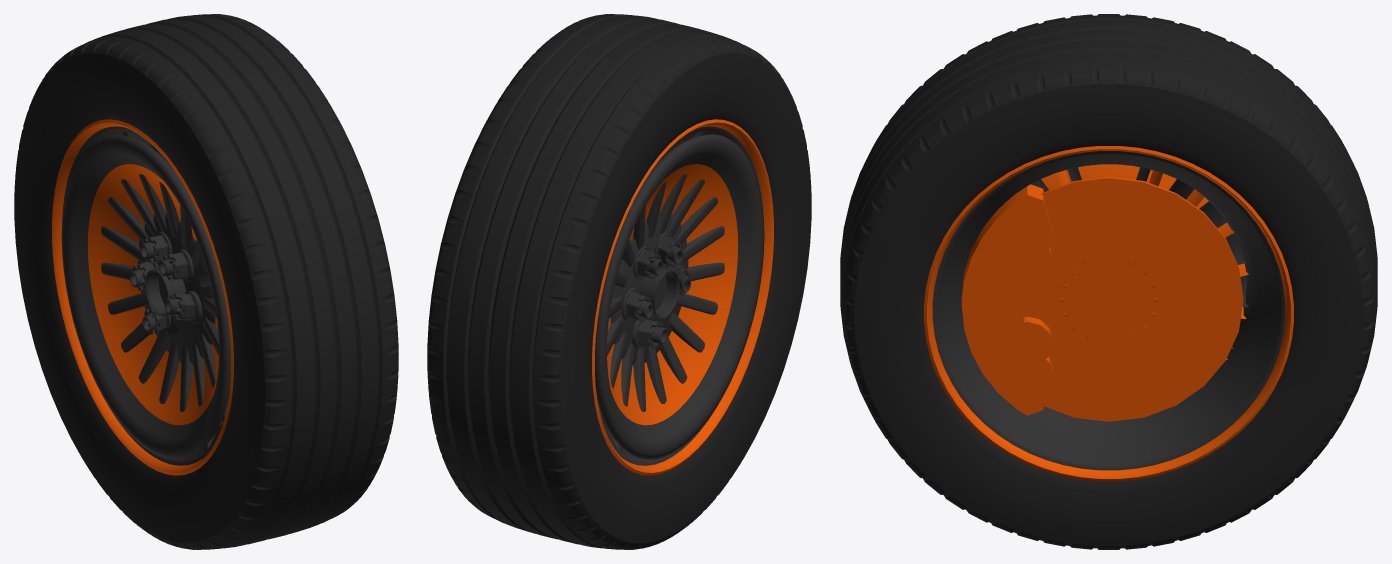
File: wheel_right.glb
3 views of the same model, side by side, from view 1: azimuth 30°, elevation 25°; view 2: azimuth 150°, elevation 25°; view 3: azimuth 270°, elevation 25° (orthographic).
Visible parts, largest first — view 1: wheel_rear_right; view 2: wheel_rear_right; view 3: wheel_rear_right.
Boxes of the visible parts, x1=… form: wheel_rear_right: x1=14, y1=14, x2=398, y2=549; wheel_rear_right: x1=427, y1=14, x2=811, y2=549; wheel_rear_right: x1=840, y1=14, x2=1377, y2=549.
Bounding box in the file's own units: 0.1744 × 0.5754 × 0.5754.
